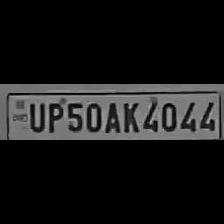0: (158, 98, 176, 132), (84, 100, 103, 132)
4: (138, 98, 158, 132), (196, 98, 216, 132), (178, 98, 196, 132)
5: (63, 100, 83, 132)
A: (102, 100, 122, 134)
K: (119, 98, 139, 134)
P: (45, 99, 63, 133)
U: (26, 100, 44, 132)
